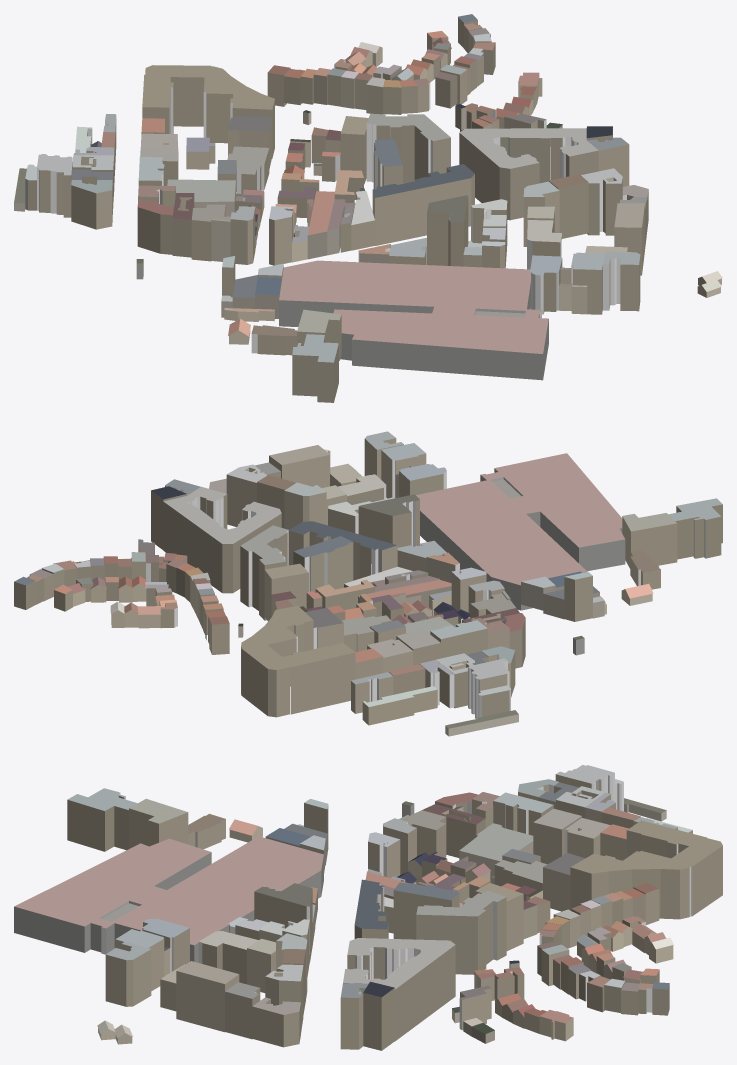
The picture shows the model from 3 angles, top to bottom: view 1: azimuth 30°, elevation 25°; view 2: azimuth 150°, elevation 25°; view 3: azimuth 270°, elevation 25°; orthographic projection. The views are drawn at different scales.
Visible parts, largest first — view 1: tuile; view 2: tuile; view 3: tuile.
Part boxes in pixels (left/top/right/bottom): tuile: left=14, top=14, right=722, bottom=402; tuile: left=14, top=431, right=722, bottom=736; tuile: left=14, top=765, right=722, bottom=1050.
Size of the model in its own units: 266 by 36.88 by 318.
